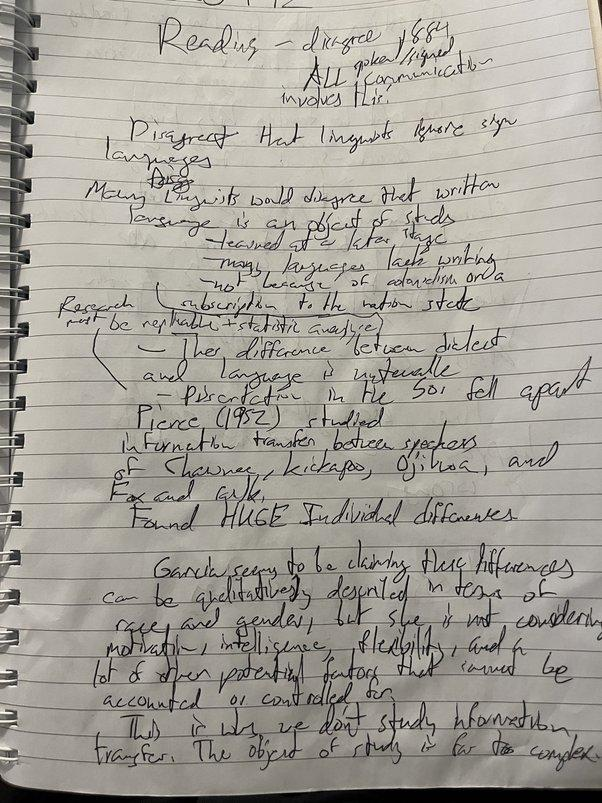text: (176, 352, 597, 416), (88, 728, 602, 777), (109, 597, 602, 646), (89, 648, 576, 697), (104, 621, 528, 674), (112, 438, 560, 488), (116, 696, 572, 744), (101, 571, 560, 614), (150, 541, 579, 587), (84, 170, 502, 214), (119, 414, 480, 464), (127, 110, 519, 156), (128, 494, 520, 534), (132, 322, 510, 363), (156, 14, 452, 64), (138, 350, 464, 394), (126, 201, 459, 243), (214, 240, 499, 283), (101, 676, 396, 716), (63, 309, 384, 344), (178, 283, 484, 318), (199, 264, 508, 294), (133, 400, 388, 434), (202, 227, 449, 258), (361, 47, 496, 92), (103, 471, 264, 508), (102, 133, 214, 181), (351, 32, 456, 79), (278, 80, 394, 111), (51, 291, 136, 320), (302, 54, 349, 93), (147, 168, 196, 196)
